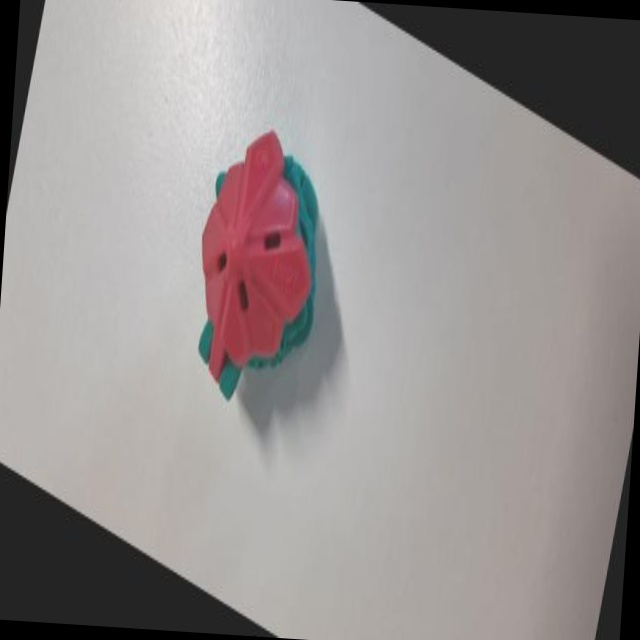House: (162, 49, 365, 457)
